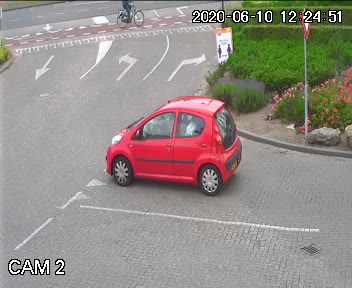car: (115, 99, 245, 188)
